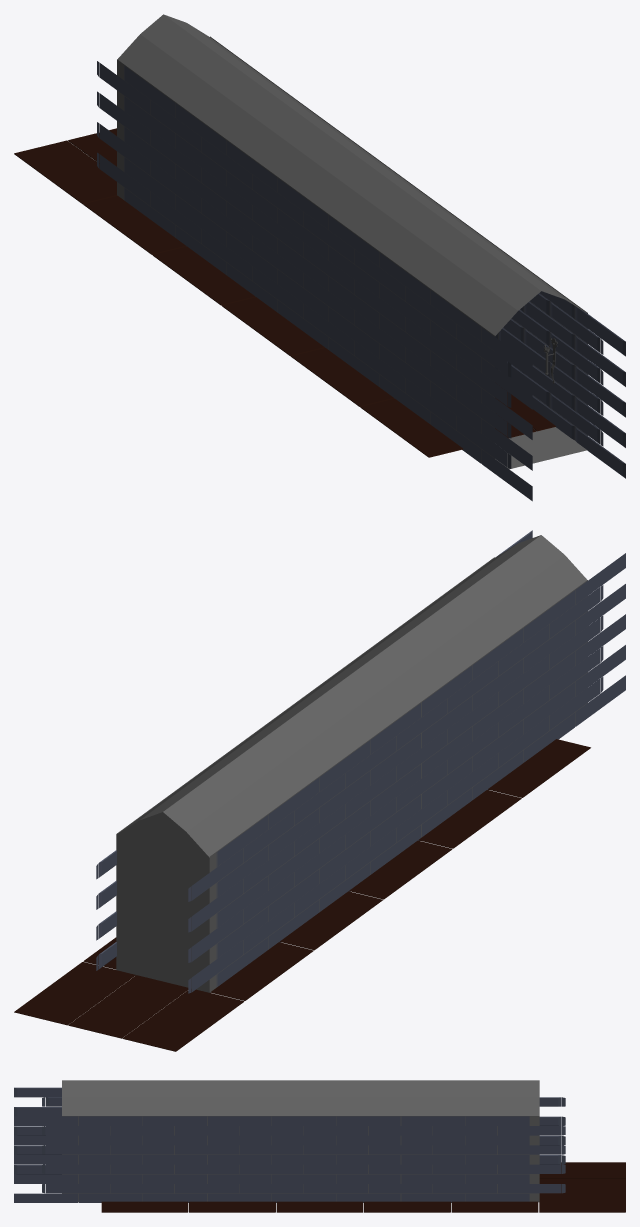
Rendered from hallway5x.glb.
3 views of the same model, one above another, from view 1: azimuth 30°, elevation 25°; view 2: azimuth 150°, elevation 25°; view 3: azimuth 270°, elevation 25° (orthographic). The views are drawn at different scales.
Parts seen in each view (by area): view 1: Hallway, Bricks_B, Bricks_A, Flooring; view 2: Hallway, Bricks_B, Bricks_A, Flooring; view 3: Bricks_B, Bricks_A, Hallway, Flooring.
Boxes of the visible parts, box(x1,y1,x2,y2) form: Hallway: box(117, 14, 587, 469); Bricks_B: box(124, 65, 625, 501); Bricks_A: box(97, 61, 603, 468); Flooring: box(14, 128, 555, 457); Hallway: box(116, 535, 587, 992); Bricks_B: box(216, 530, 625, 987); Bricks_A: box(96, 585, 603, 993); Flooring: box(14, 739, 590, 1051); Bricks_B: box(14, 1087, 529, 1202); Bricks_A: box(42, 1097, 565, 1193); Hallway: box(62, 1080, 539, 1202); Flooring: box(101, 1162, 625, 1212).
Bounding box in the file's own units: 7.4 × 7.5 × 38.43.
